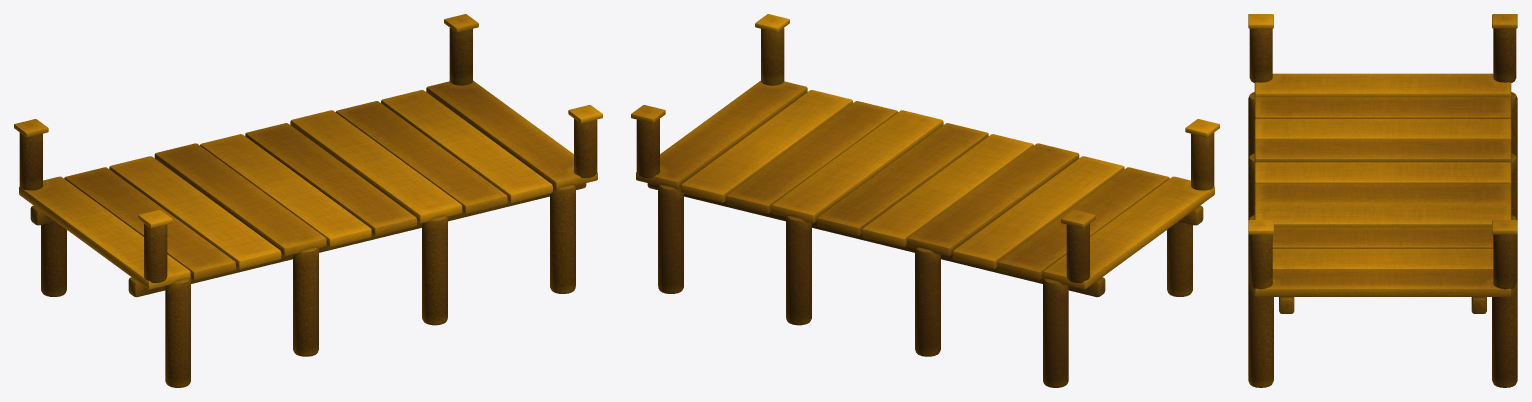
File: DockPlank.fbx
3 renders of one model, left to right at view 1: azimuth 30°, elevation 25°; view 2: azimuth 150°, elevation 25°; view 3: azimuth 270°, elevation 25°, orthographic.
Parts seen in each view (by area): view 1: DockPlank; view 2: DockPlank; view 3: DockPlank.
Boxes of the visible parts, left/top/right/bottom form: DockPlank: left=14, top=14, right=602, bottom=387; DockPlank: left=631, top=14, right=1219, bottom=387; DockPlank: left=1248, top=14, right=1517, bottom=387.
Size of the model in its own units: 4 by 1.46 by 2.1.
